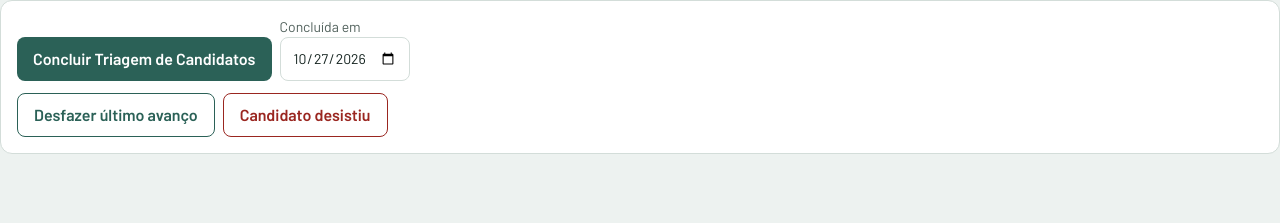
Test: mostra o erro devolvido pela ação
Click the button "Concluir Triagem de Candidatos" at (144,59), box [17,37,272,81]
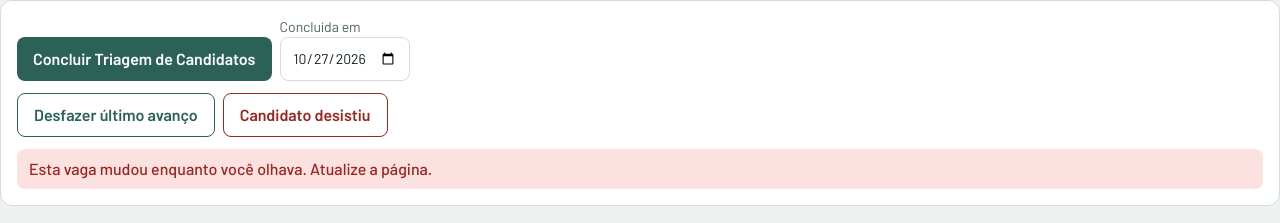
Check: the message shows "Esta vaga mudou enquanto você olhava.", box [29,159,432,178]
